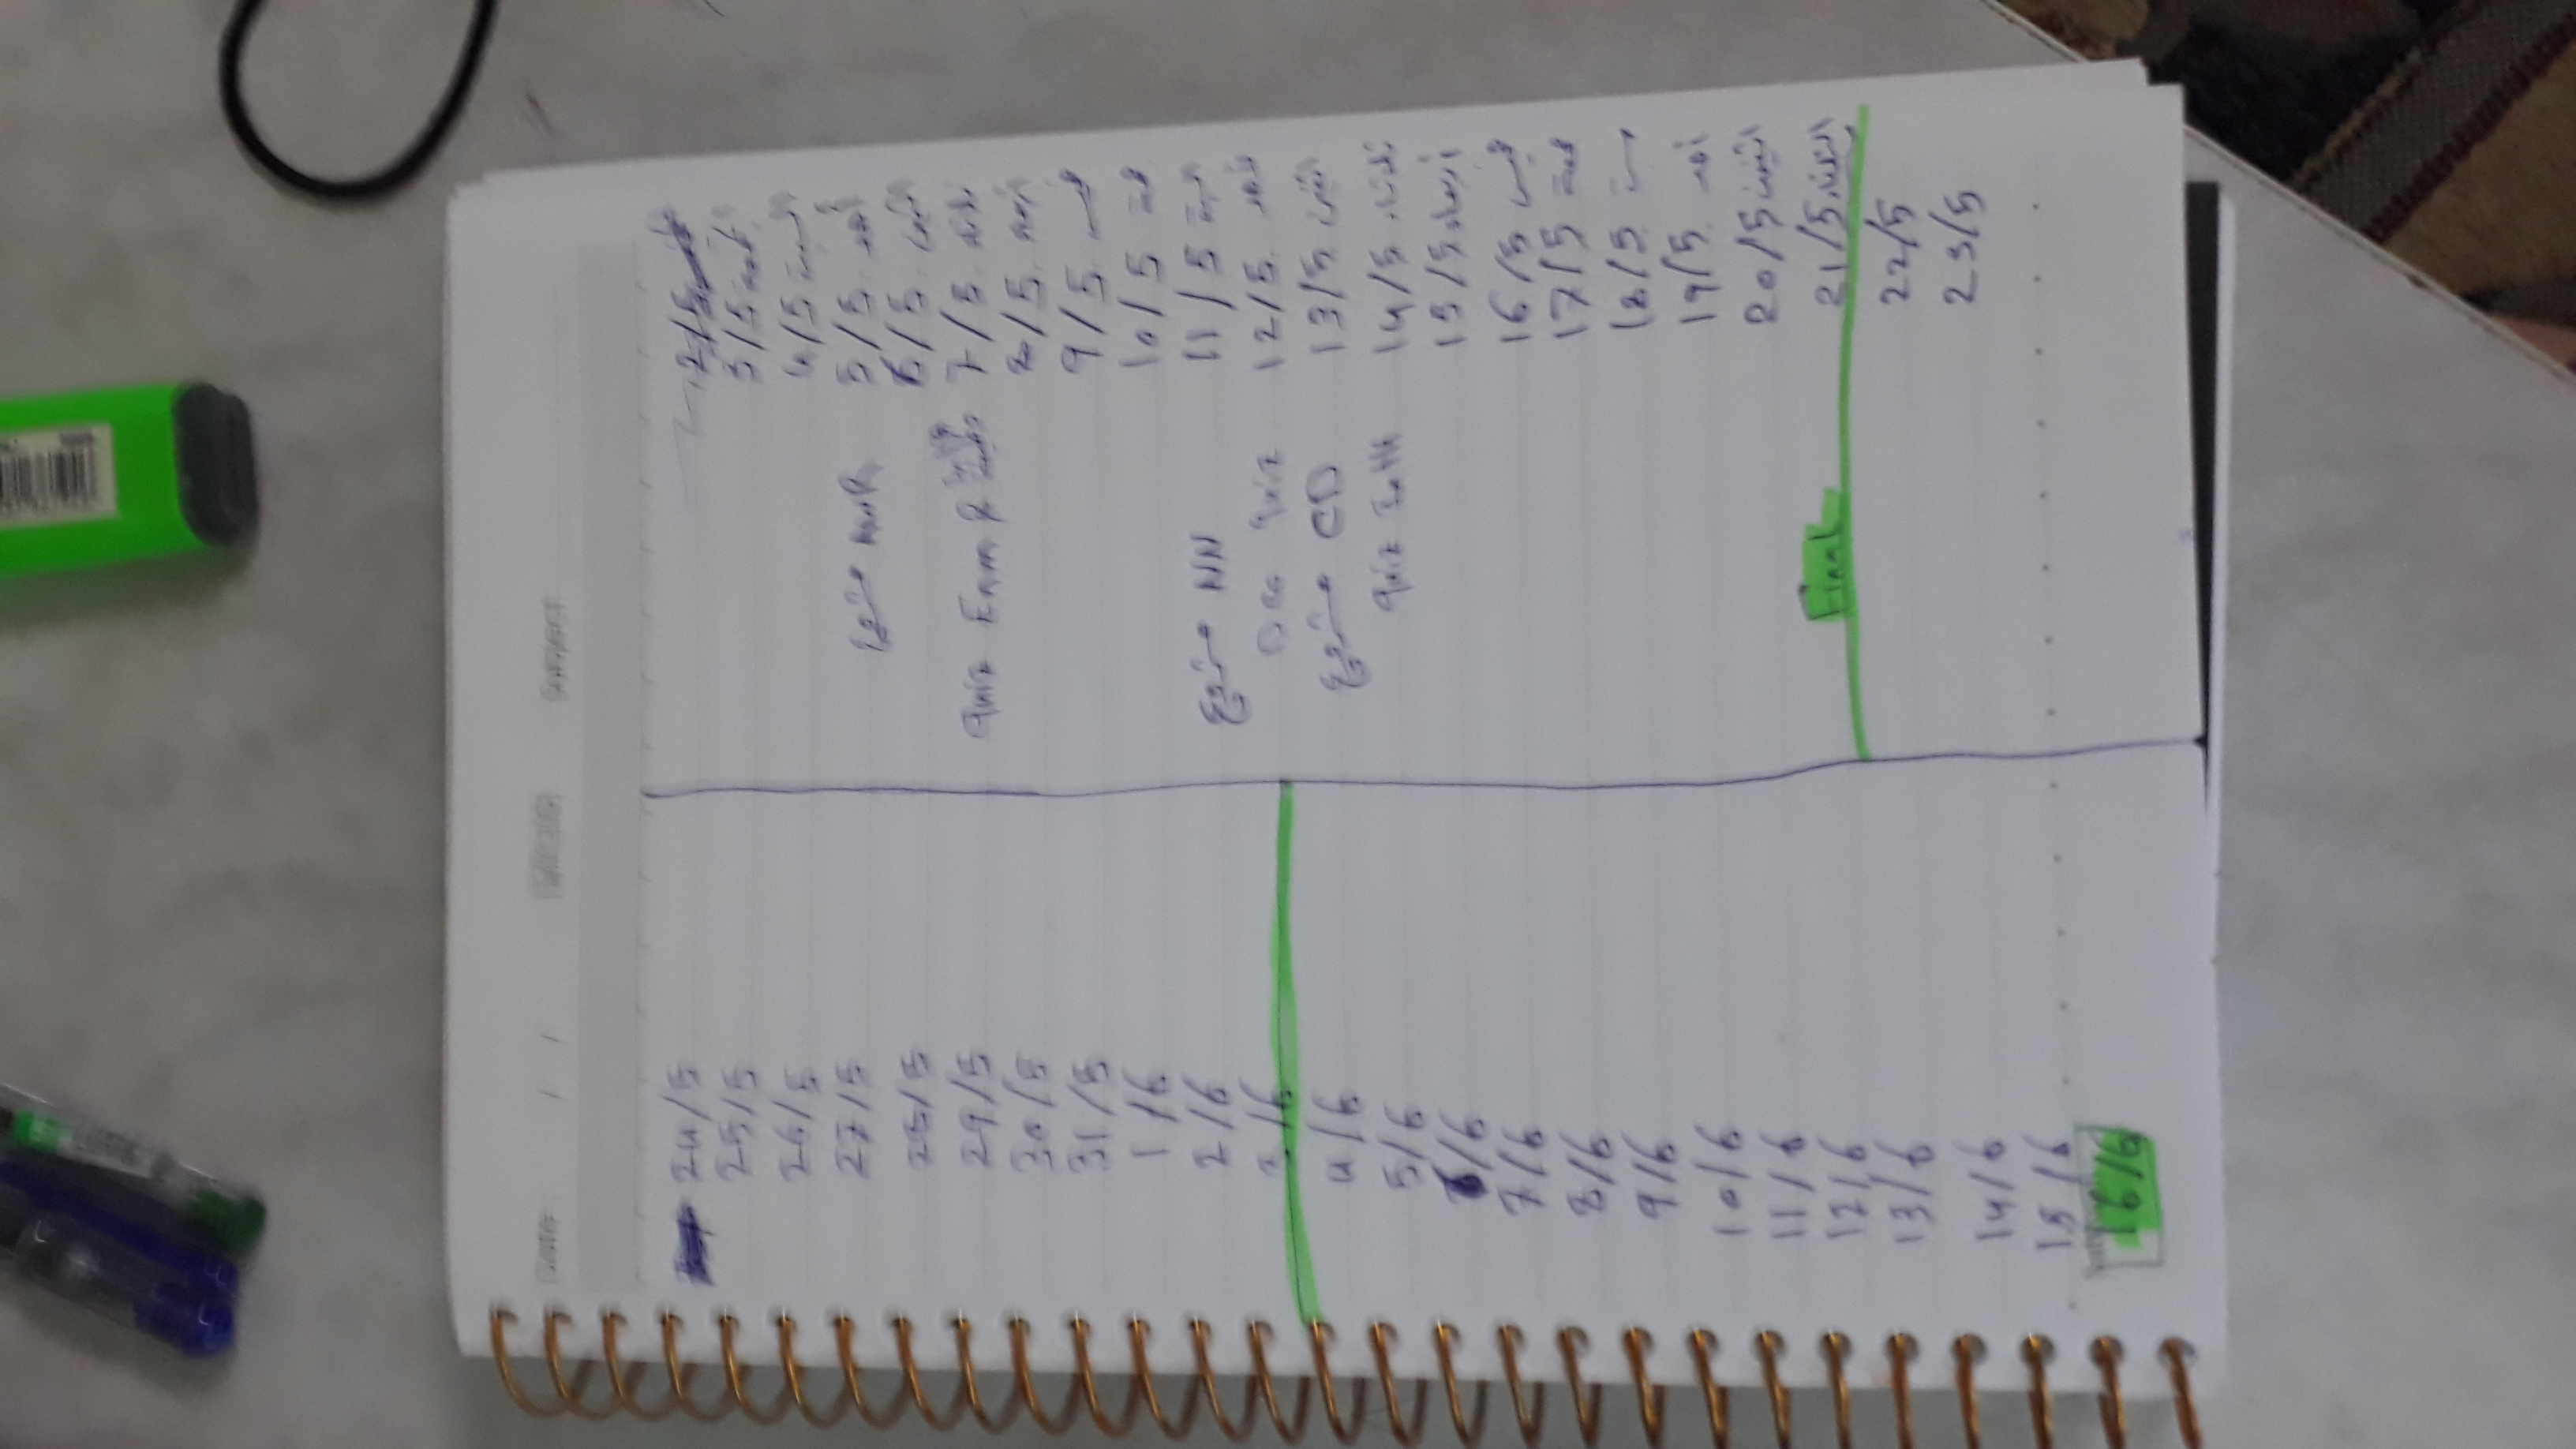dftar: (437, 53, 2293, 1426)
